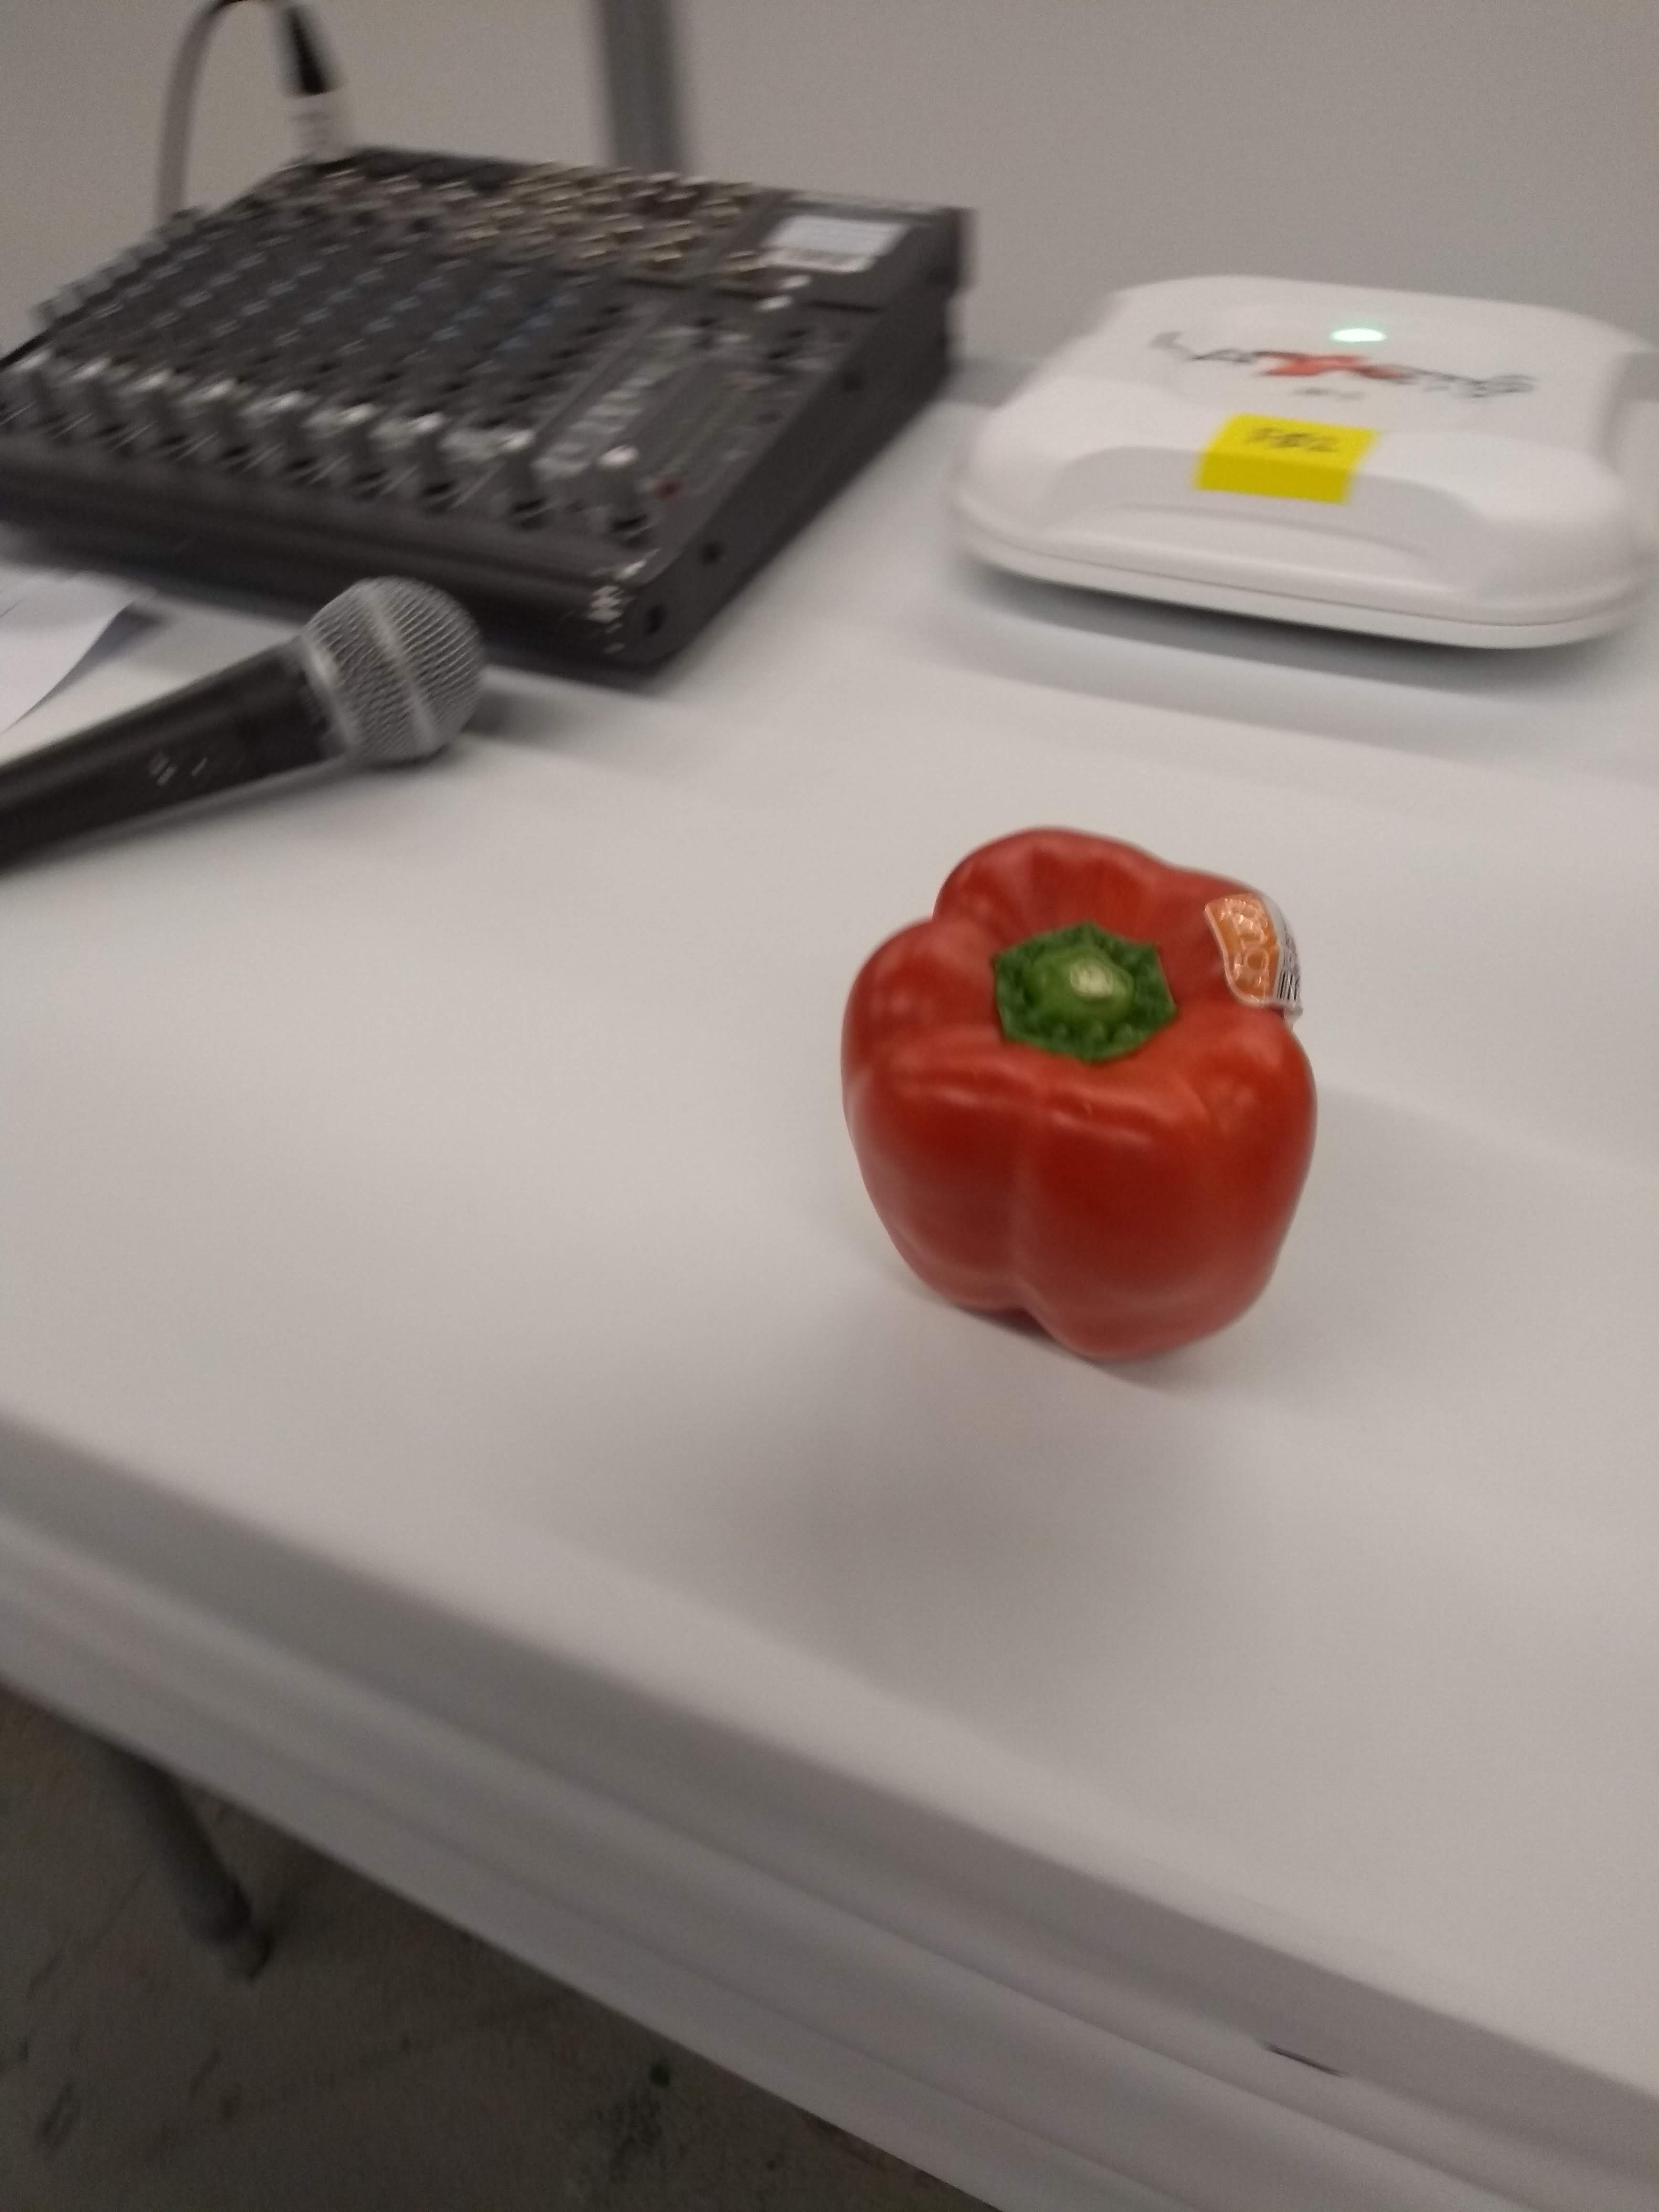paprika: (821, 824, 1333, 1371)
